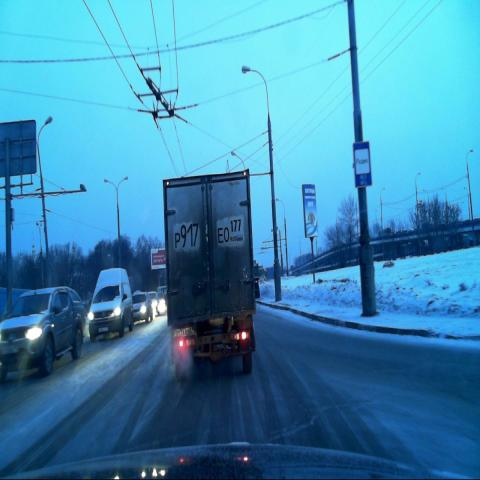7_15: (352, 140, 374, 188)
